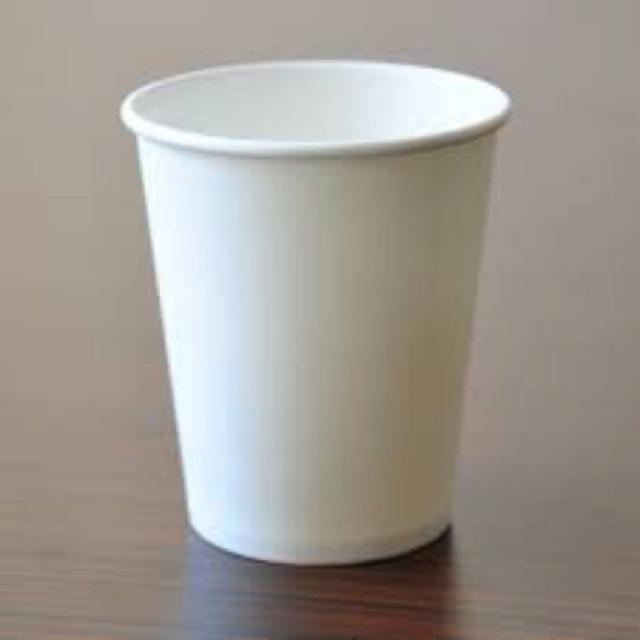trash: (119, 59, 515, 569)
